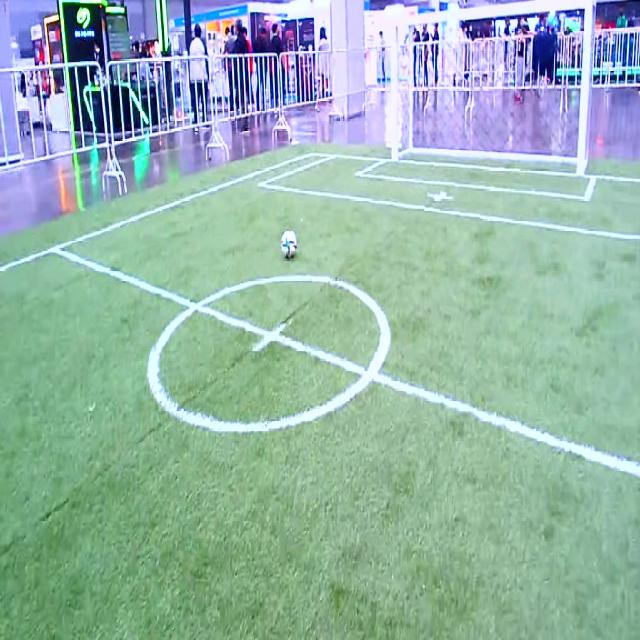ball: (280, 230, 298, 258)
